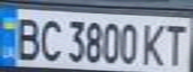0: (121, 19, 142, 66), (103, 19, 121, 64)
3: (63, 17, 87, 63)
8: (81, 18, 106, 64)
B: (9, 14, 42, 62)
C: (36, 15, 66, 62)
K: (139, 20, 169, 68)
T: (160, 20, 190, 69)
